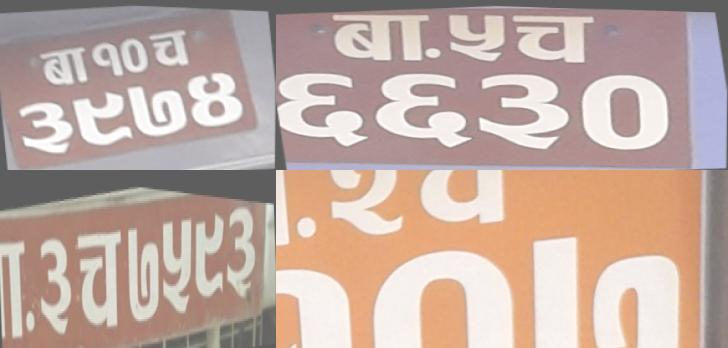0: (359, 231, 530, 348), (327, 6, 437, 66), (118, 28, 152, 82)
1: (276, 247, 375, 348), (88, 35, 125, 85)
2: (311, 170, 412, 244)
3: (34, 216, 75, 340), (11, 92, 77, 161), (223, 192, 258, 302)
4: (367, 67, 476, 152), (276, 66, 375, 149), (182, 65, 248, 134)
5: (159, 196, 196, 324)
6: (443, 8, 511, 63)
7: (519, 214, 696, 348), (124, 203, 162, 326), (126, 79, 190, 144)
9: (508, 5, 601, 66), (69, 86, 135, 154), (192, 192, 228, 304)
ba: (469, 66, 578, 153), (0, 222, 31, 348), (37, 42, 93, 94)
cha: (572, 67, 676, 152), (406, 170, 531, 231), (75, 206, 126, 340), (144, 20, 197, 75)
